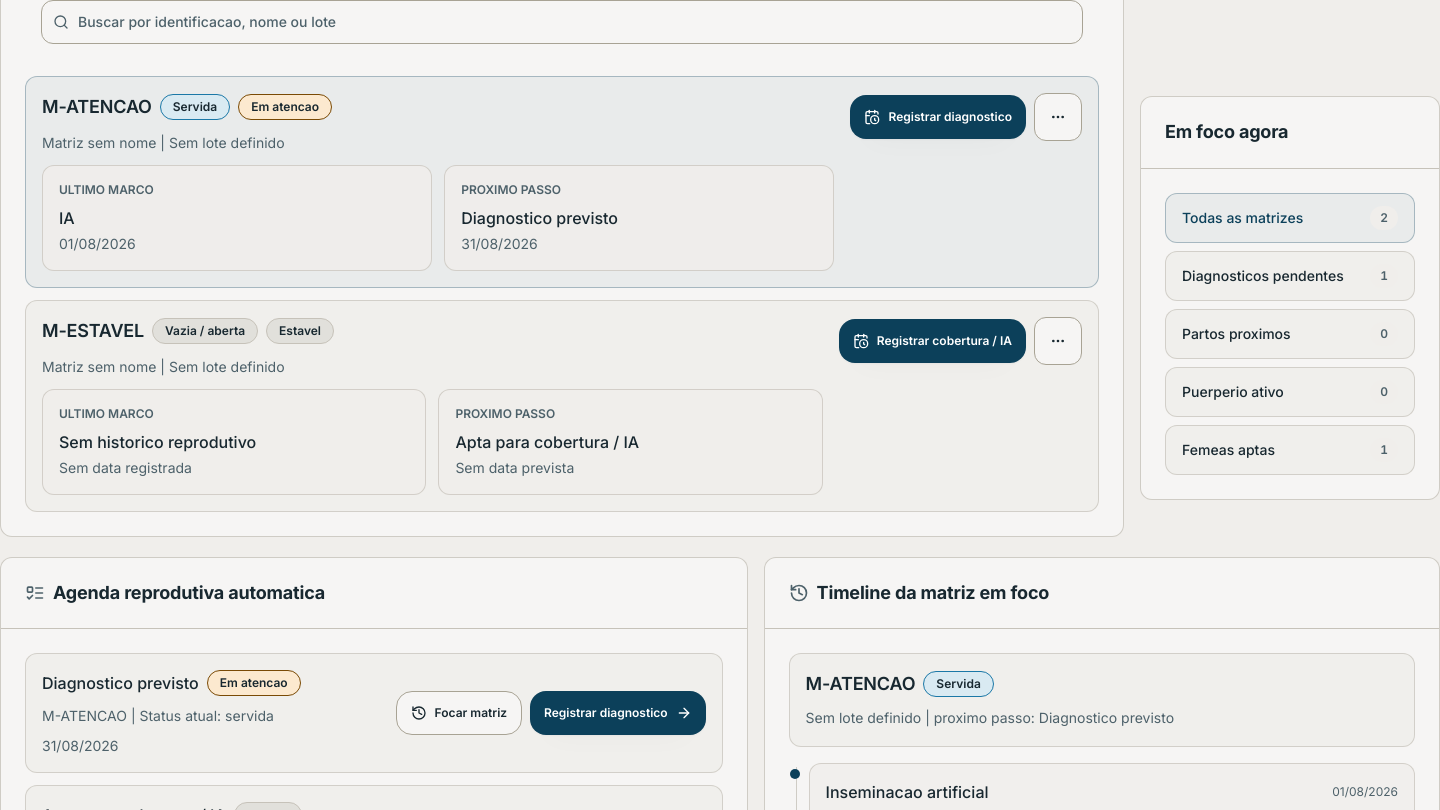
UX13 — apresentacao inicial das matrizes › preserva prioridade de atencao, filtro, selecao, Agenda e historico
This screenshot has width=1440, height=810.
(page scrolled)
Expected: the text "M-ATENCAO" below "Timeline da matriz em foco" is shown, [806,673,915,694]
Expected: the text "Inseminacao artificial" is shown, [826,780,988,804]
Click the button "M-ESTAVEL " at [562, 406], box [25,300,1099,512]
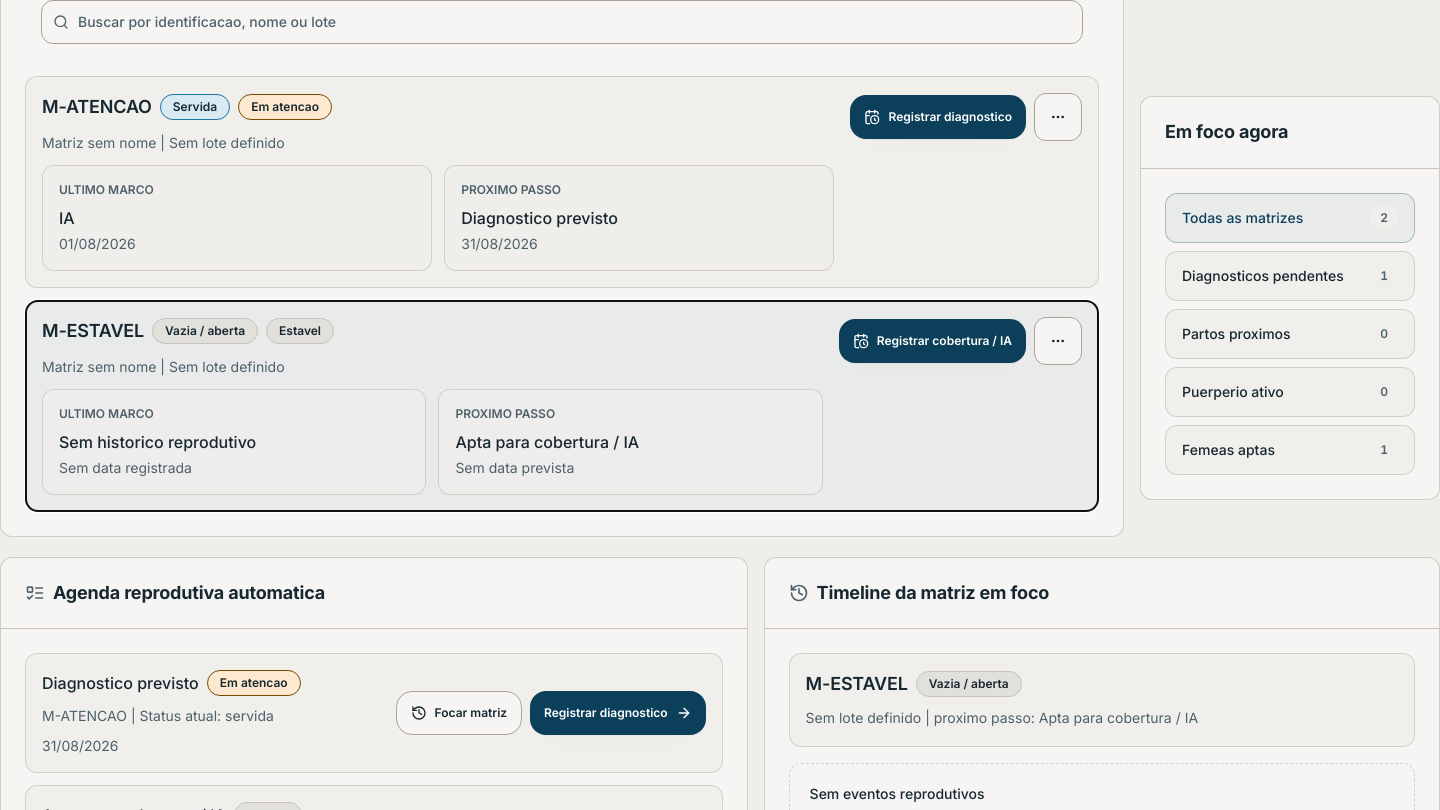
Result: the text "M-ESTAVEL" below "Timeline da matriz em foco" is shown at [806,673,908,694]
Click the button "Diagnosticos pendentes 1" at [1290, 276], box [1165,250,1415,300]
(page scrolled)
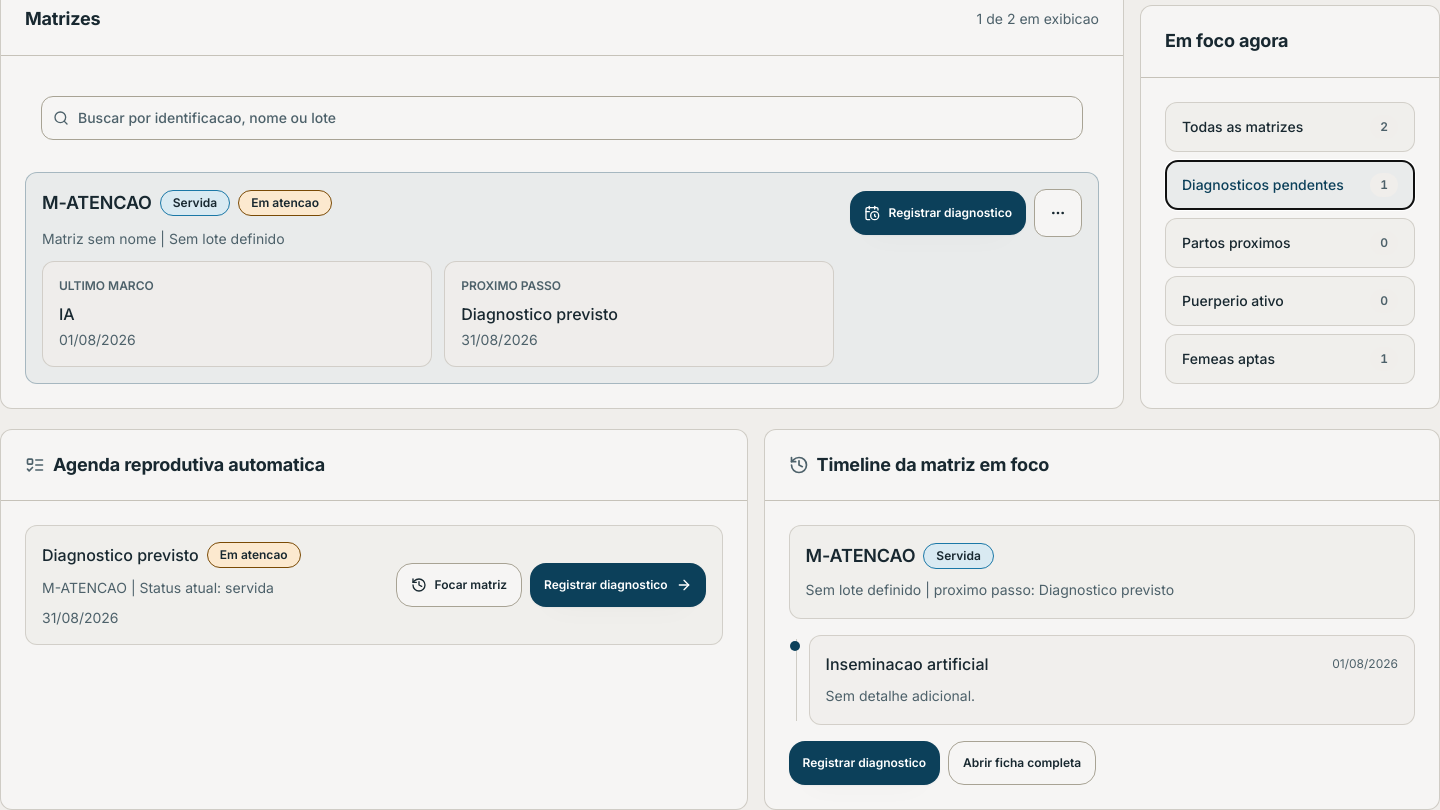
Expected: the button "M-ATENCAO " is shown, [25,172,1099,384]
Result: the button "M-ESTAVEL " is gone
